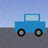vehicle: (15, 14, 45, 36)
